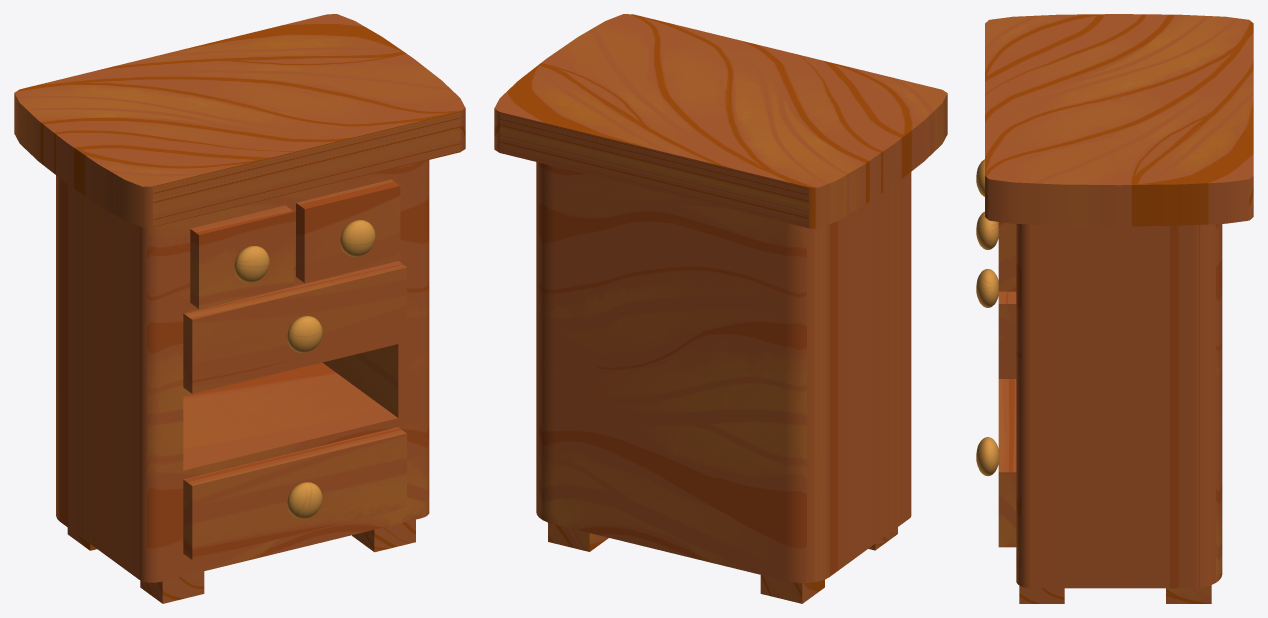
The model's file is Cajonera.obj.
3 views of the same model, side by side, from view 1: azimuth 30°, elevation 25°; view 2: azimuth 150°, elevation 25°; view 3: azimuth 270°, elevation 25° (orthographic).
Parts seen in each view (by area): view 1: pCube14, polySurface1, Cajonera_pCube3, Cajonera_pCube5, pCube6, Cajonera_pCube7, pCube8, pCube11, pSphere3, pSphere1, pSphere4, pSphere2; view 2: pCube14, polySurface1, pCube9, Cajonera_pCube10; view 3: pCube14, polySurface1, Cajonera_pCube3, Cajonera_pCube5, pCube6, Cajonera_pCube10, pCube11, pSphere3, pSphere4, pSphere2.
Part boxes in pixels (<box>): pCube14: <box>56,160,429,582</box>; polySurface1: <box>14,14,465,227</box>; Cajonera_pCube3: <box>183,427,406,559</box>; Cajonera_pCube5: <box>183,261,406,393</box>; pCube6: <box>296,179,400,283</box>; Cajonera_pCube7: <box>190,205,294,308</box>; pCube8: <box>140,571,204,603</box>; pCube11: <box>352,519,415,552</box>; pSphere3: <box>287,316,322,352</box>; pSphere1: <box>234,246,269,282</box>; pSphere4: <box>287,482,322,518</box>; pSphere2: <box>340,220,375,256</box>; pCube14: <box>536,162,911,582</box>; polySurface1: <box>494,14,947,228</box>; pCube9: <box>760,575,824,603</box>; Cajonera_pCube10: <box>548,522,608,551</box>; pCube14: <box>1016,224,1222,588</box>; polySurface1: <box>985,14,1253,226</box>; Cajonera_pCube3: <box>998,379,1016,547</box>; Cajonera_pCube5: <box>998,291,1016,378</box>; pCube6: <box>998,222,1016,291</box>; Cajonera_pCube10: <box>1166,585,1211,603</box>; pCube11: <box>1019,585,1064,603</box>; pSphere3: <box>976,269,998,307</box>; pSphere4: <box>976,437,998,476</box>; pSphere2: <box>976,211,998,249</box>.
Bounding box in the file's own units: 1.16 × 1.39 × 0.794.
Materials: 5 (5 with a texture image).
